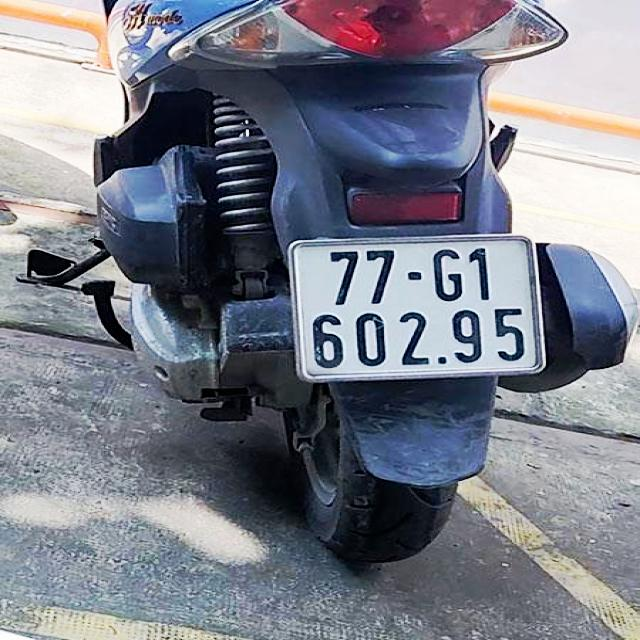license_plate: (298, 238, 544, 379)
